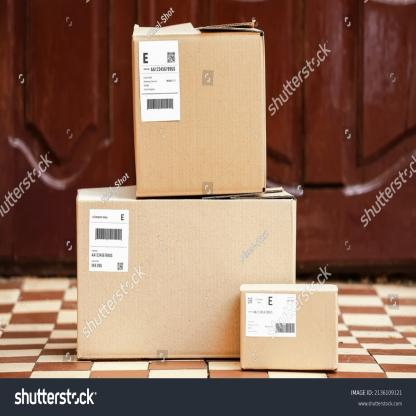box: (77, 195, 296, 359), (134, 30, 266, 199), (242, 286, 338, 369)
